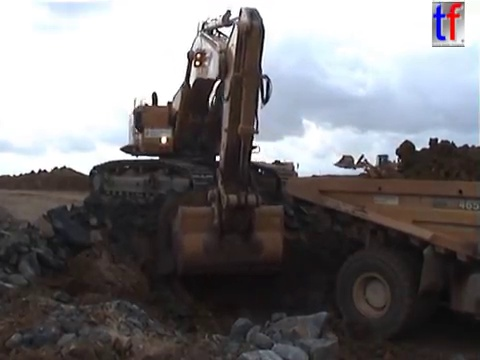excavator: (85, 3, 301, 279)
truck: (281, 172, 480, 347)
wheel loader: (330, 152, 411, 191)
